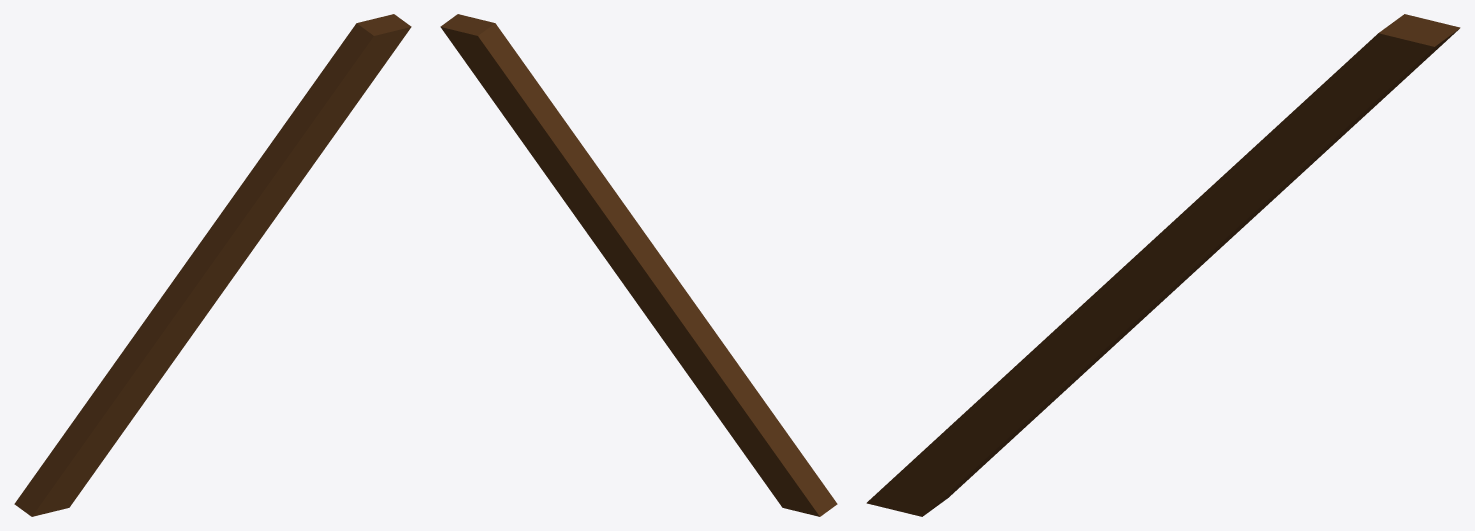
Rendered from strebe_2m.glb.
3 views of the same model, side by side, from view 1: azimuth 30°, elevation 25°; view 2: azimuth 150°, elevation 25°; view 3: azimuth 330°, elevation 25° (orthographic). The views are drawn at different scales.
Visible parts, largest first — view 1: strebe_2m; view 2: strebe_2m; view 3: strebe_2m.
Part boxes in pixels (x1=…): strebe_2m: x1=14, y1=14, x2=411, y2=516; strebe_2m: x1=440, y1=14, x2=837, y2=516; strebe_2m: x1=866, y1=14, x2=1460, y2=516.
Size of the model in its own units: 2 by 2 by 0.16.
